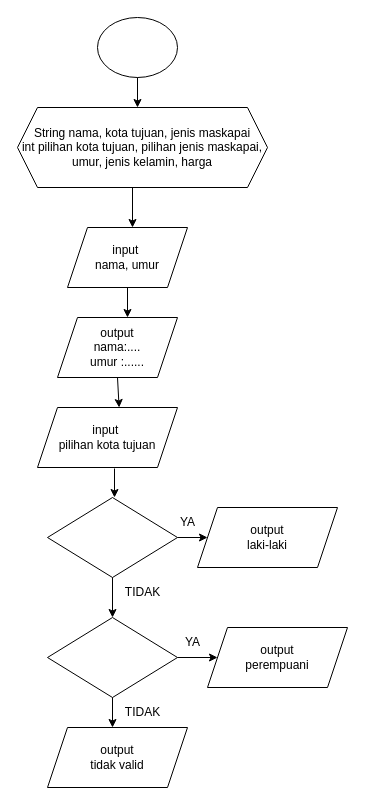
Image size: 365x805. Some labels were removed from this diagram. Each missing label, with the box of its shape:
jenis kelamin = 1: (46, 496, 178, 578)
jenis kelamin = 2: (46, 616, 178, 698)
mulai: (96, 16, 178, 78)
